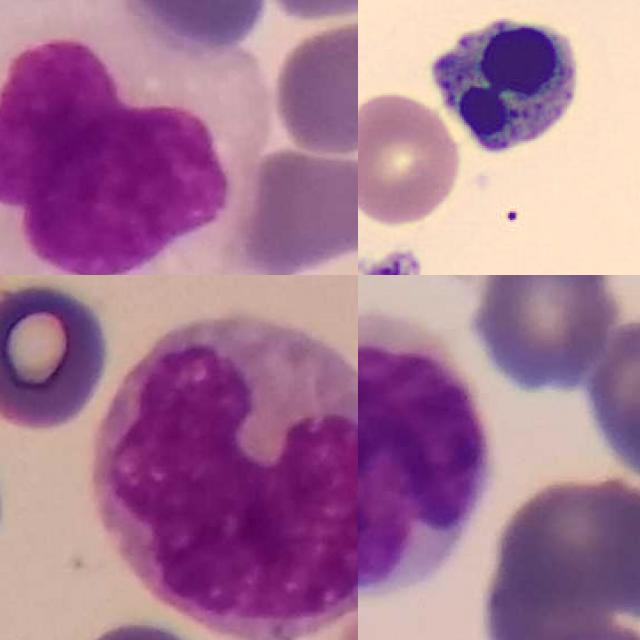Lymphocyte: (358, 311, 486, 597)
Monocyte: (99, 314, 358, 640), (0, 0, 271, 275)
Neutrophil: (418, 1, 588, 162)
Platelets: (361, 244, 423, 275)
RBC: (358, 86, 465, 229)
